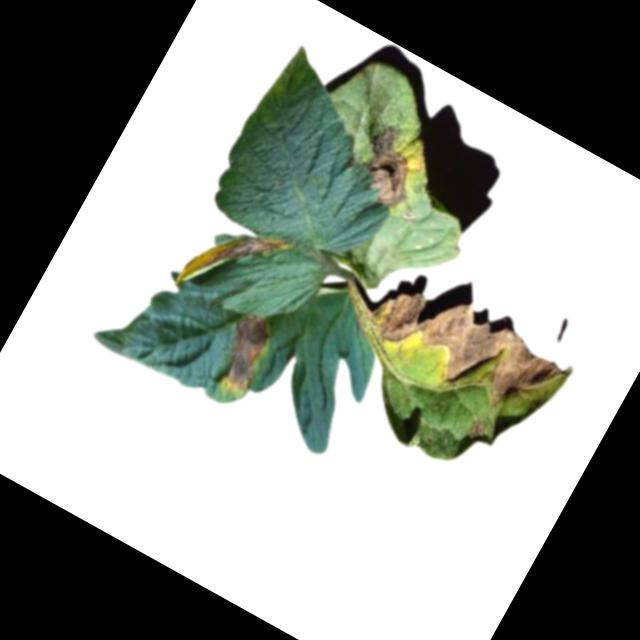Early_blight: (359, 265, 585, 438), (181, 210, 285, 316), (338, 115, 430, 213), (207, 310, 283, 399), (462, 415, 490, 444)
